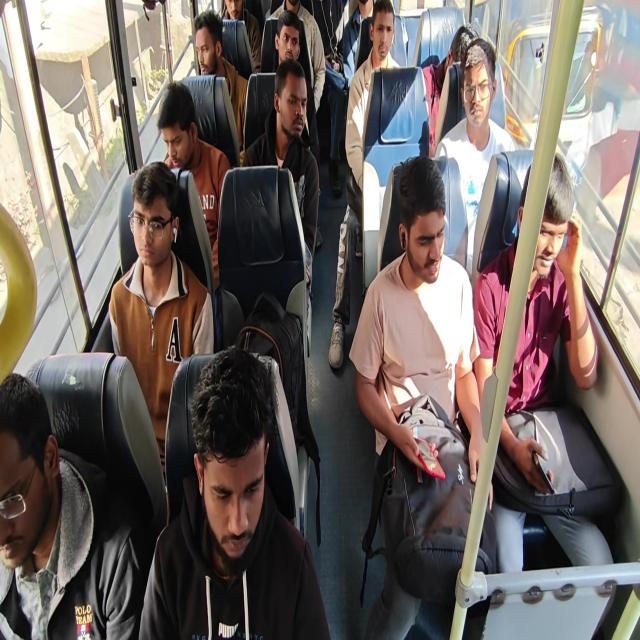person: (348, 155, 496, 638), (471, 152, 617, 584), (138, 344, 331, 639), (0, 371, 143, 639), (108, 160, 214, 486), (328, 0, 400, 369), (433, 38, 517, 276), (242, 58, 320, 297), (156, 80, 231, 290), (345, 1, 400, 214), (326, 0, 374, 198), (269, 0, 325, 161), (193, 9, 248, 153), (421, 24, 478, 157), (220, 0, 262, 74), (342, 0, 374, 88)
